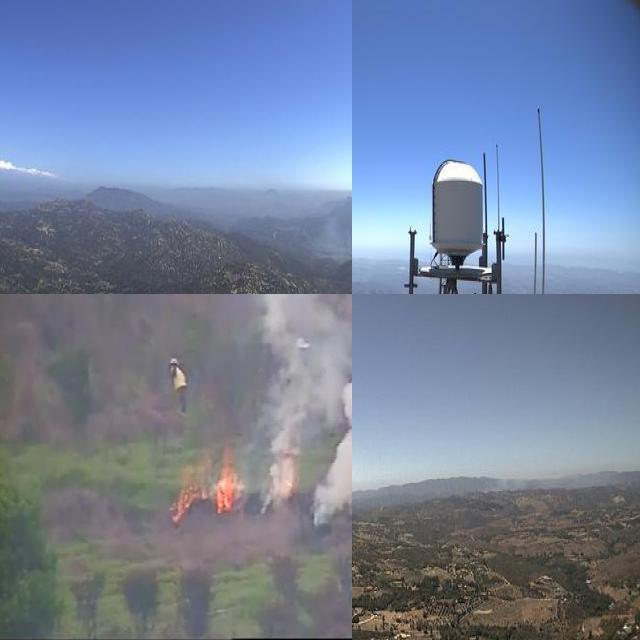fire: (170, 449, 236, 522)
smoke: (212, 294, 352, 523), (313, 198, 352, 268), (478, 466, 547, 495)
